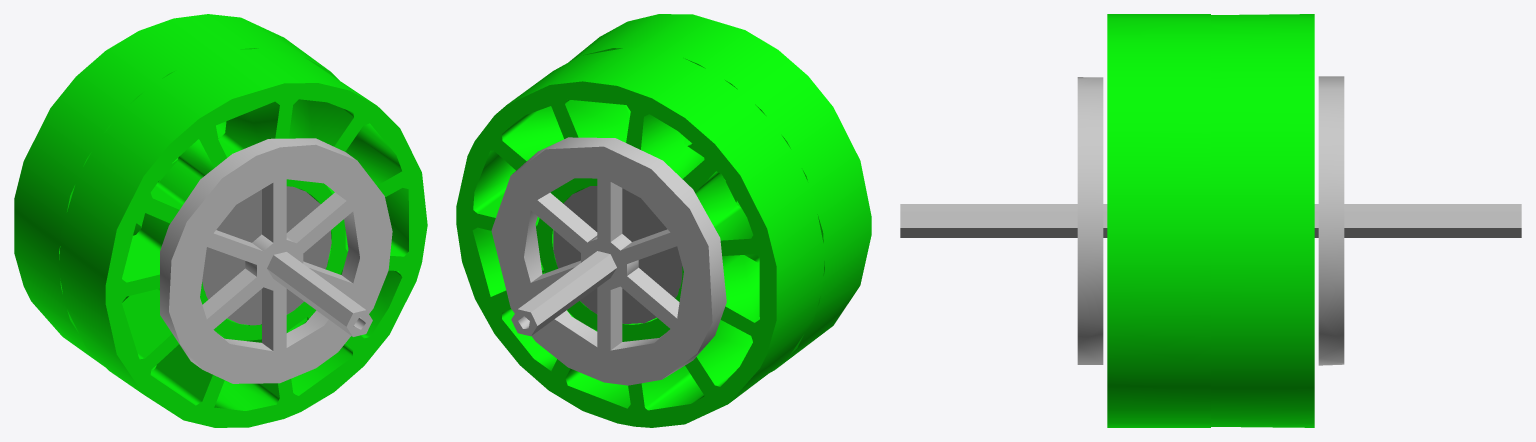
Rendered from flywheel.glb.
3 views of the same model, side by side, from view 1: azimuth 30°, elevation 25°; view 2: azimuth 150°, elevation 25°; view 3: azimuth 270°, elevation 25° (orthographic). The views are drawn at different scales.
Visible parts, largest first — view 1: flywheel_1, flywheel_0; view 2: flywheel_1, flywheel_0; view 3: flywheel_1, flywheel_0.
Boxes of the visible parts, x1,y1,x2,y2 form: flywheel_1: (14, 14, 427, 427); flywheel_0: (160, 138, 392, 383); flywheel_1: (456, 14, 871, 427); flywheel_0: (491, 137, 726, 385); flywheel_1: (1107, 14, 1314, 427); flywheel_0: (900, 76, 1521, 365).
Bounding box in the file's own units: 0.1015 × 0.1016 × 0.1524.
